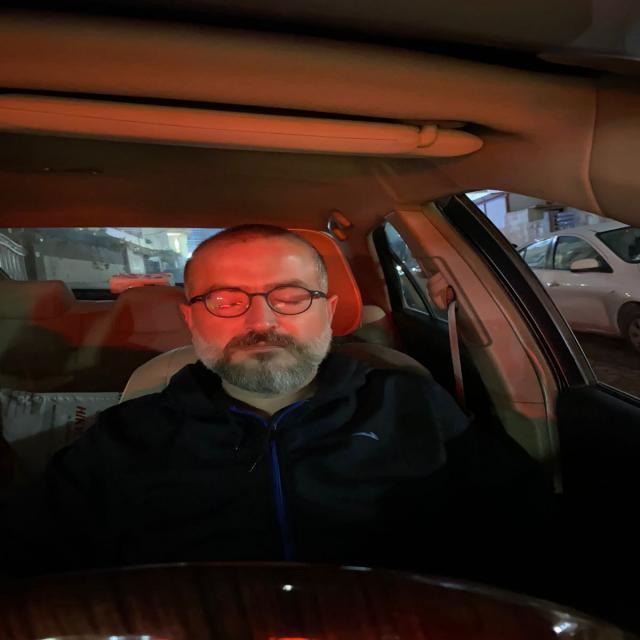drowsy: (171, 223, 344, 408)
